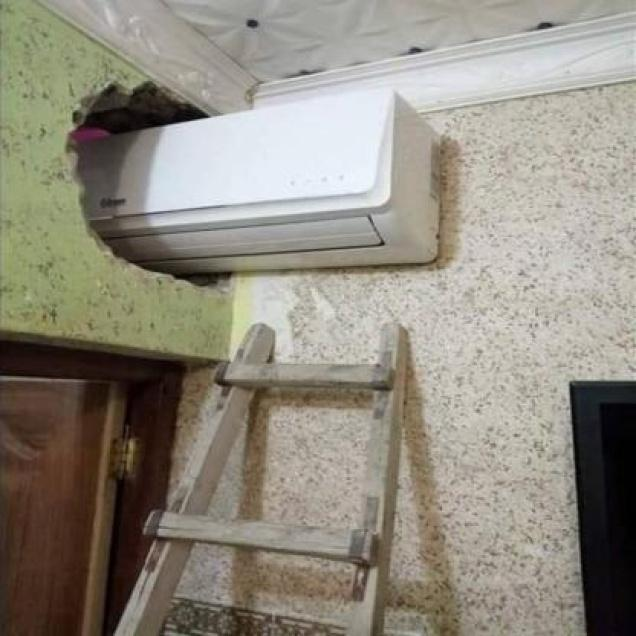AC: (76, 86, 443, 272)
